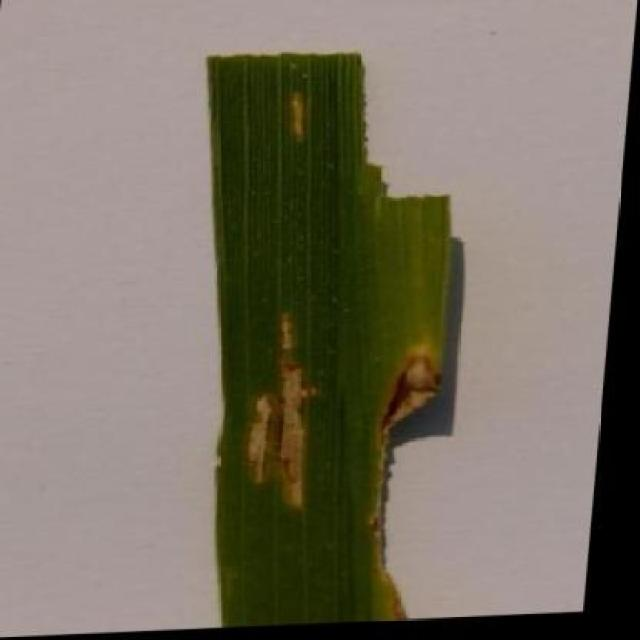Brown_Spot: (164, 44, 473, 631)
